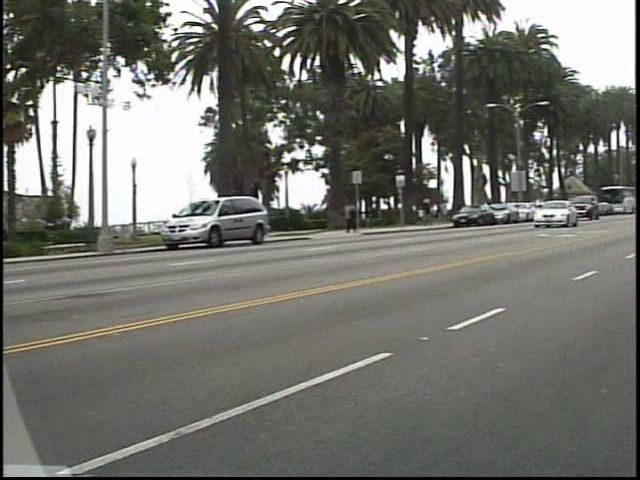person: (349, 199, 370, 238), (427, 192, 447, 226)
